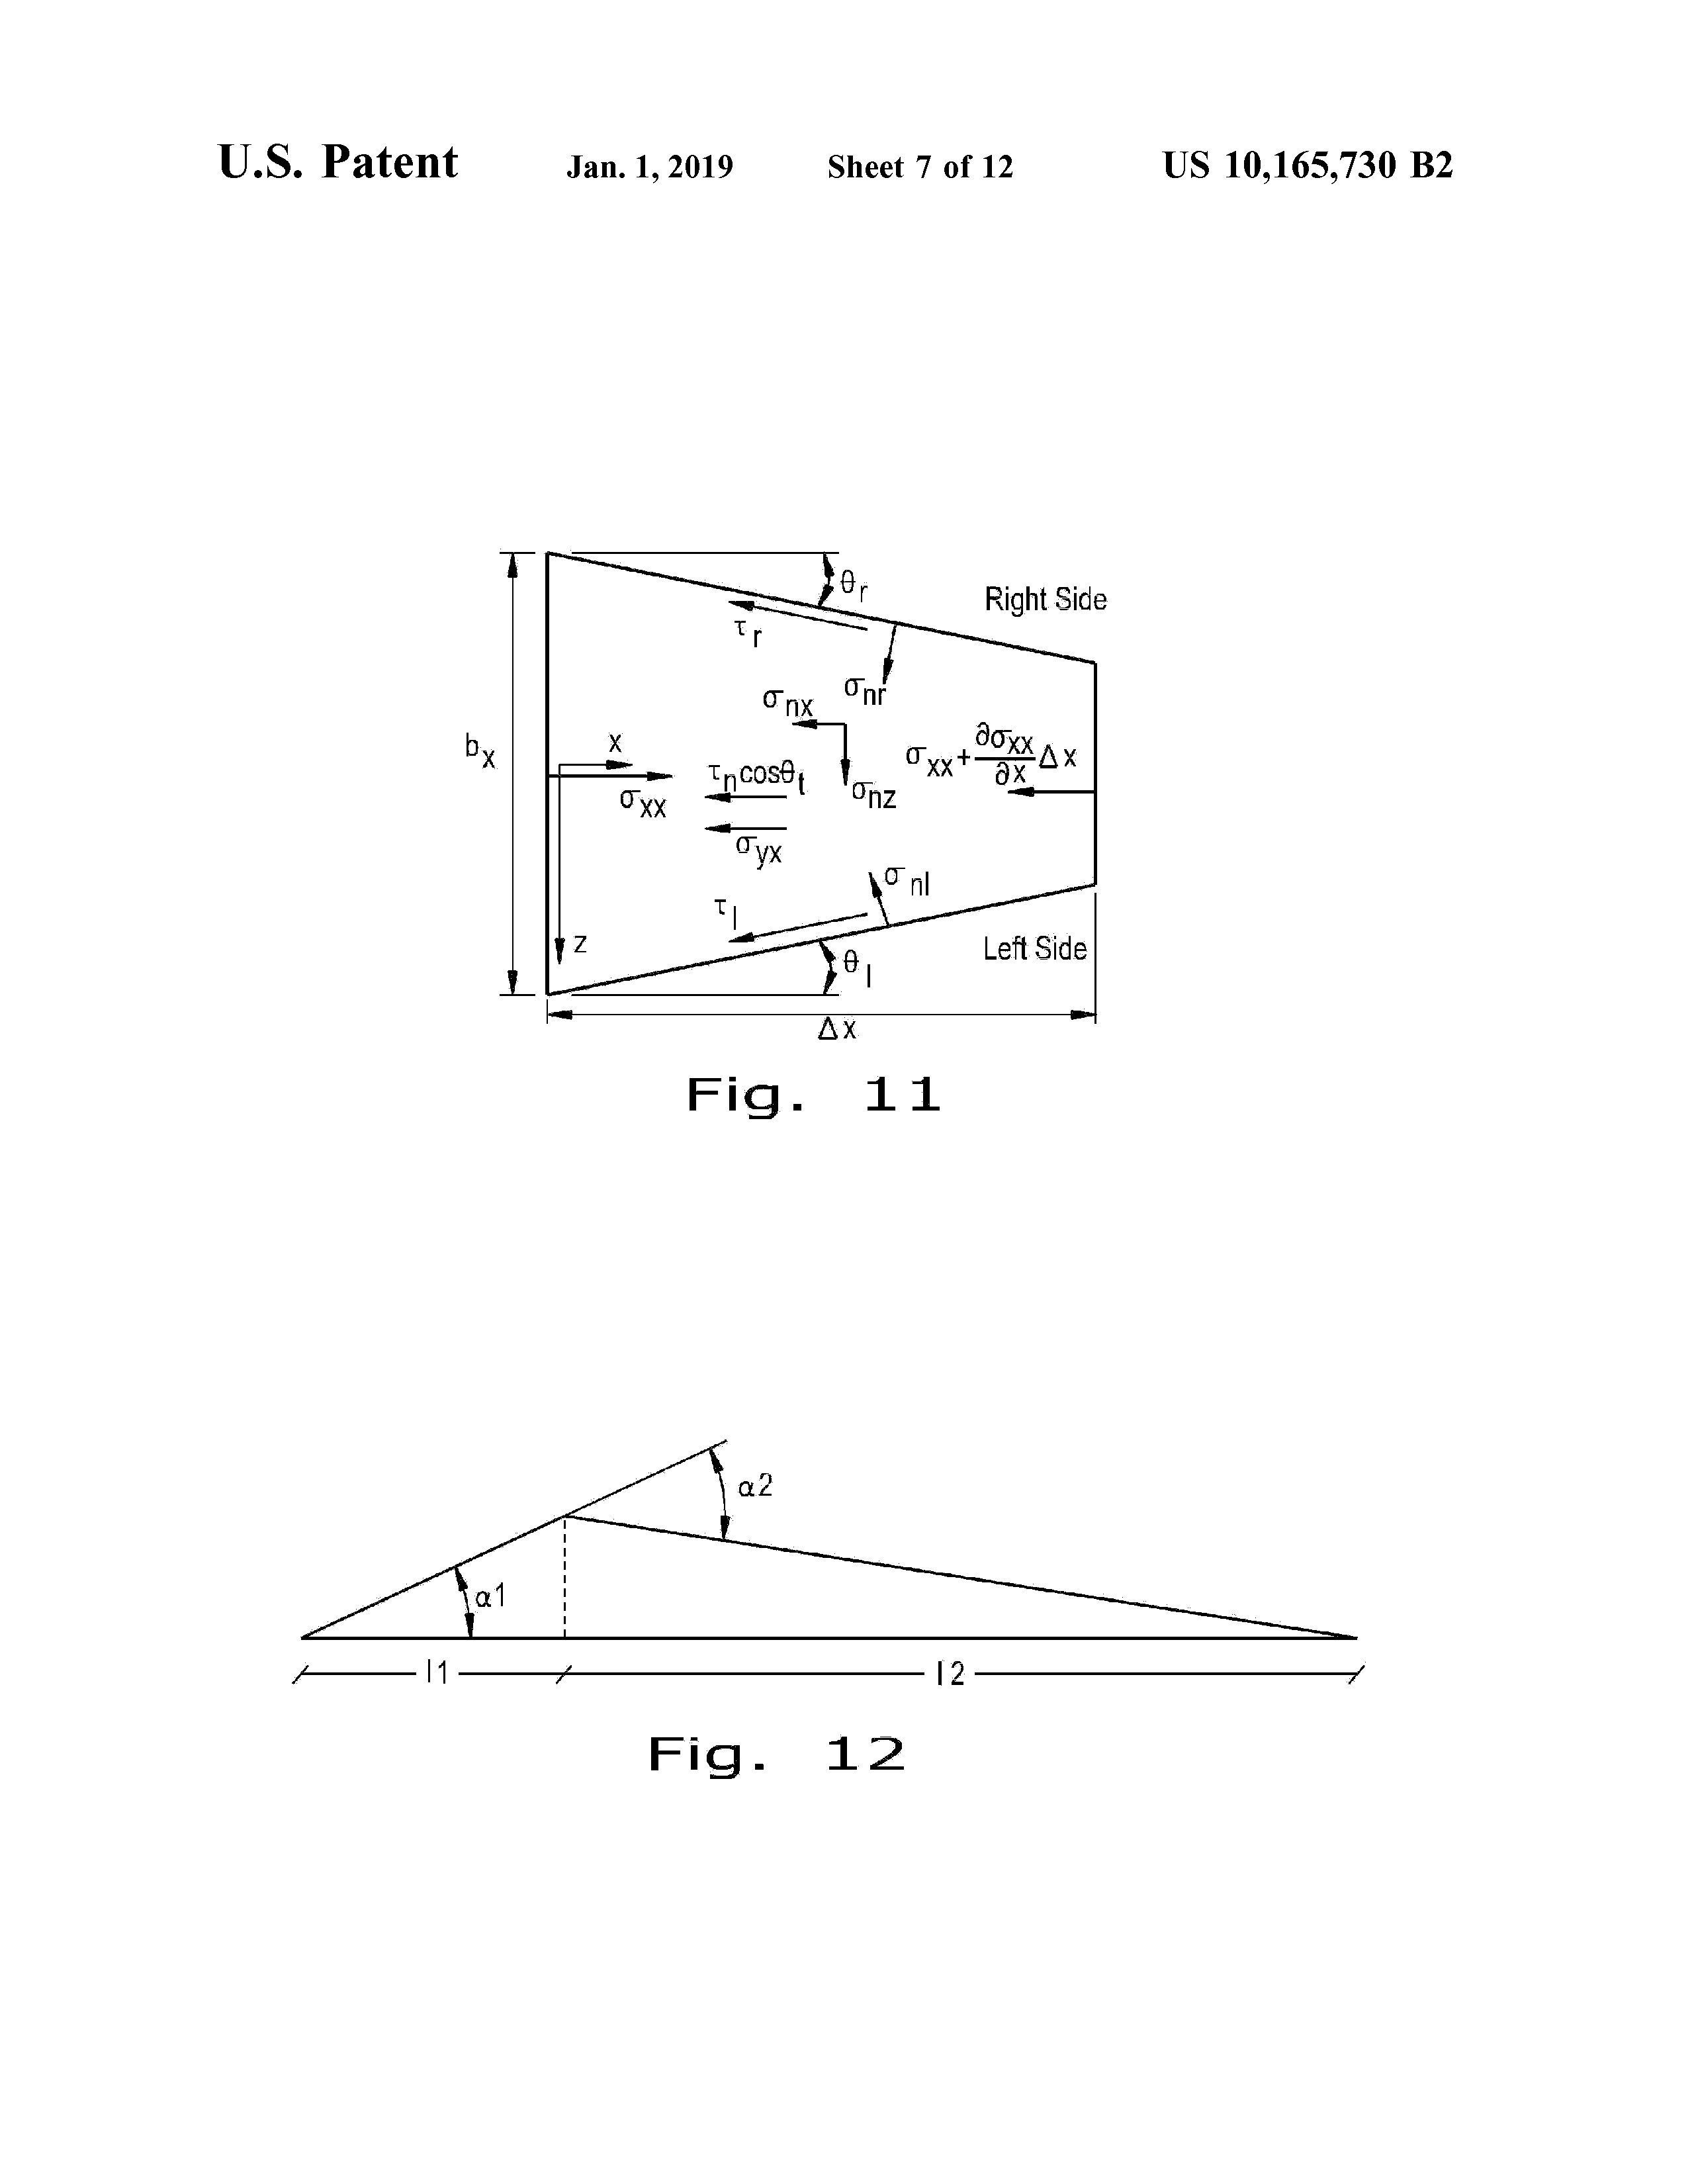patent image: (448, 518, 1210, 1162), (236, 1433, 1449, 1782)
